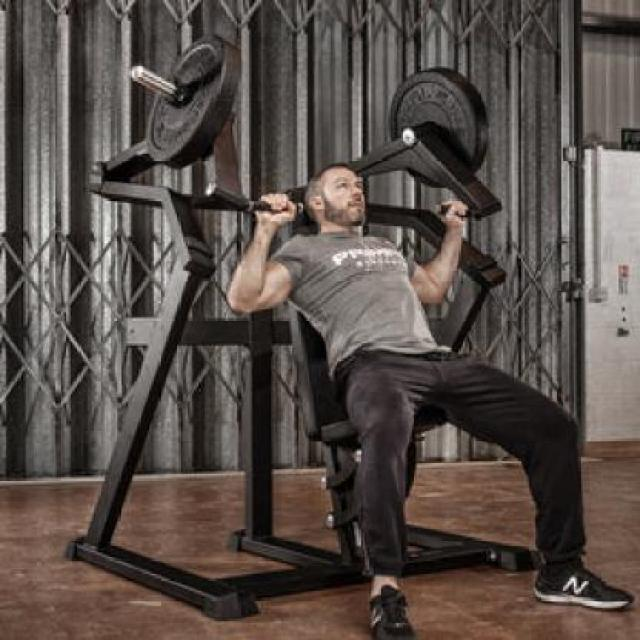shoulder press machine: (86, 33, 560, 622)
